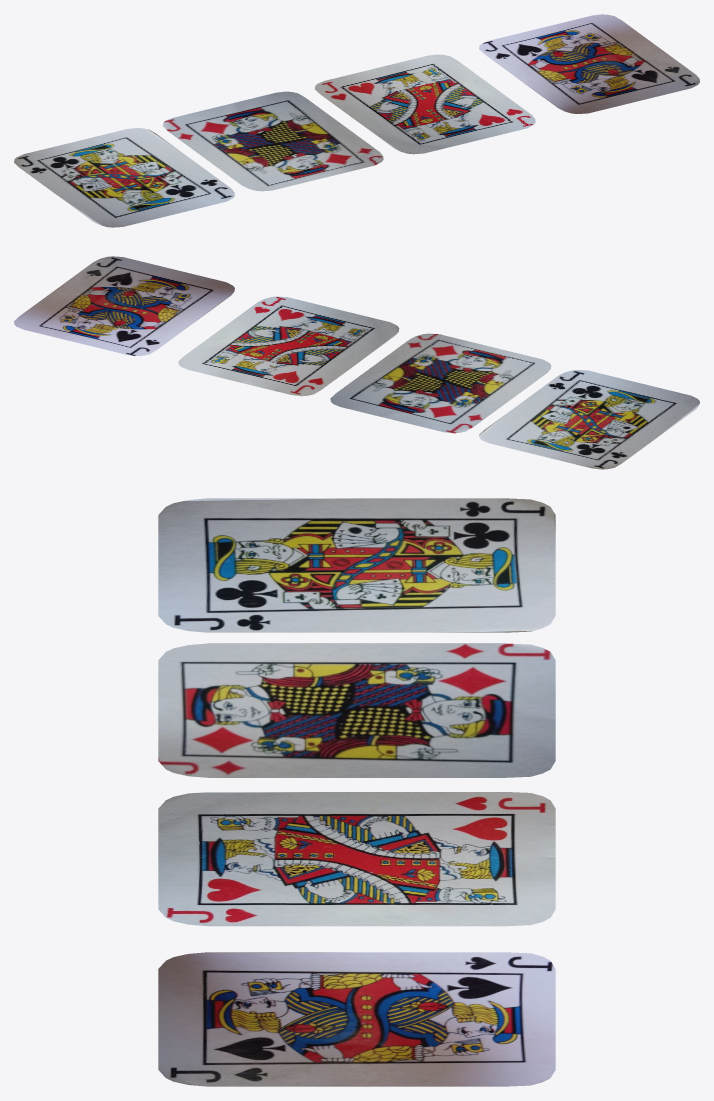
Rendered from jcard.fbx.
3 views of the same model, one above another, from view 1: azimuth 30°, elevation 25°; view 2: azimuth 150°, elevation 25°; view 3: azimuth 270°, elevation 25° (orthographic). The views are drawn at different scales.
Visible parts, largest first — view 1: 5ofDiamonds.001, 5ofDiamonds.003, 5ofDiamonds.002, 5ofDiamonds; view 2: 5ofDiamonds.002, 5ofDiamonds.001, 5ofDiamonds, 5ofDiamonds.003; view 3: 5ofDiamonds, 5ofDiamonds.001, 5ofDiamonds.003, 5ofDiamonds.002.
Part boxes in pixels (x1,y1,x2,y2): 5ofDiamonds.001: [162, 91, 383, 191]; 5ofDiamonds.003: [479, 14, 699, 113]; 5ofDiamonds.002: [315, 54, 535, 154]; 5ofDiamonds: [14, 128, 234, 227]; 5ofDiamonds.002: [178, 296, 399, 396]; 5ofDiamonds.001: [330, 333, 551, 433]; 5ofDiamonds: [479, 370, 699, 469]; 5ofDiamonds.003: [14, 256, 234, 355]; 5ofDiamonds: [158, 498, 555, 632]; 5ofDiamonds.001: [158, 643, 555, 777]; 5ofDiamonds.003: [158, 952, 555, 1086]; 5ofDiamonds.002: [158, 792, 555, 926].
Bounding box in the file's own units: 700 × 4.38e-05 × 200.
